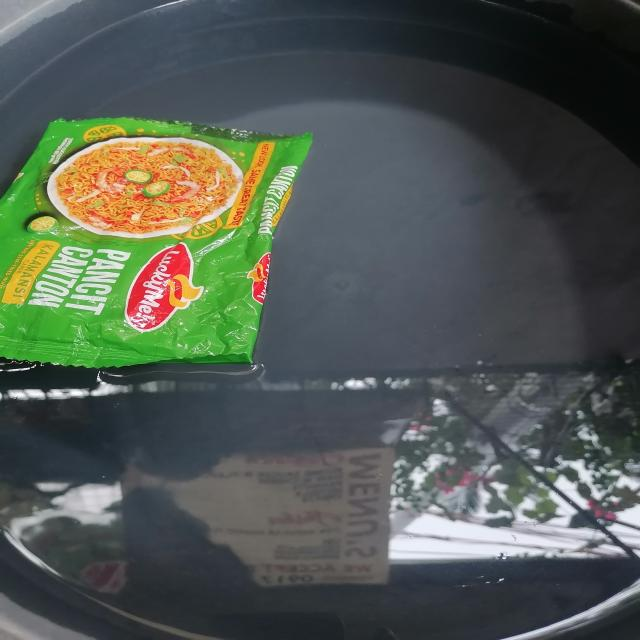Plastic Wrapper: (0, 91, 333, 379)
